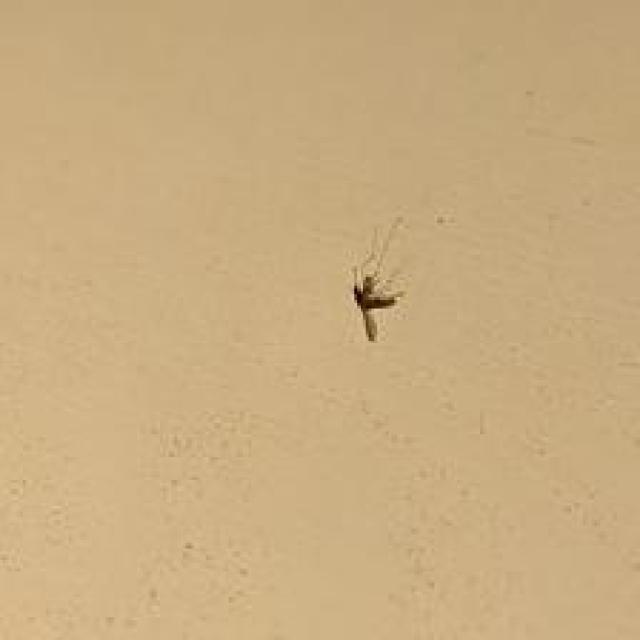Culex: (350, 216, 407, 341)
